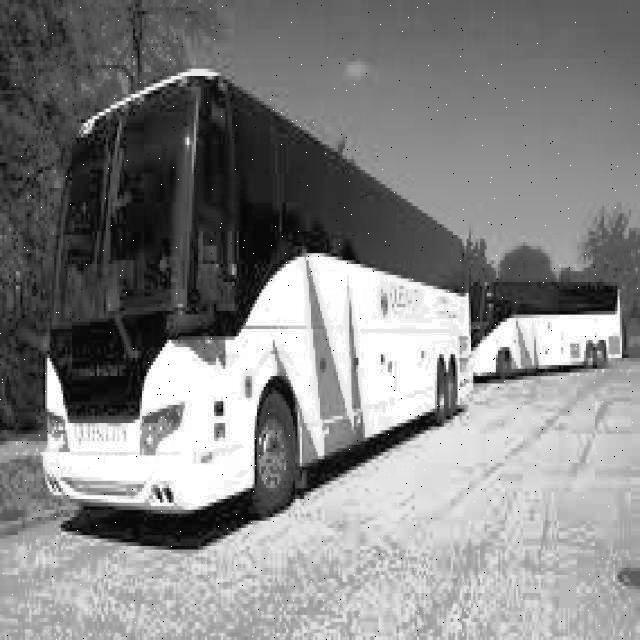Bus: (38, 69, 478, 556), (476, 274, 620, 374)
